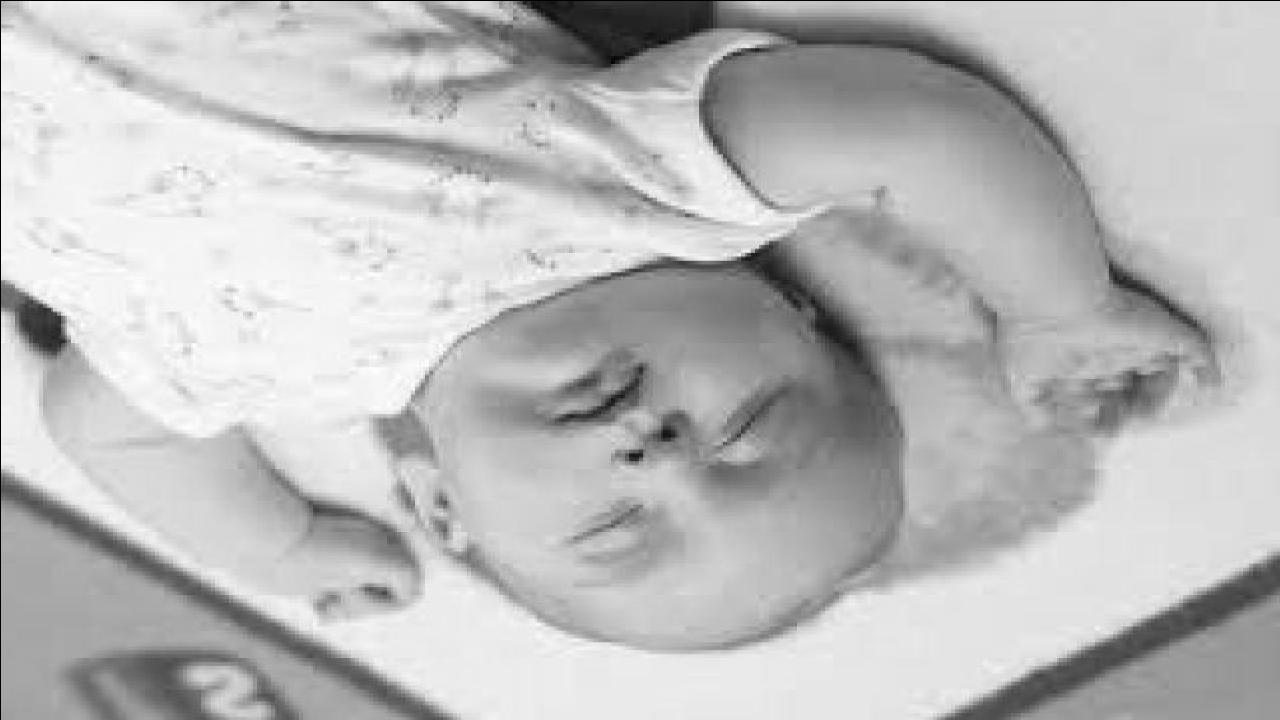hand: (995, 305, 1227, 442), (264, 525, 428, 626)
